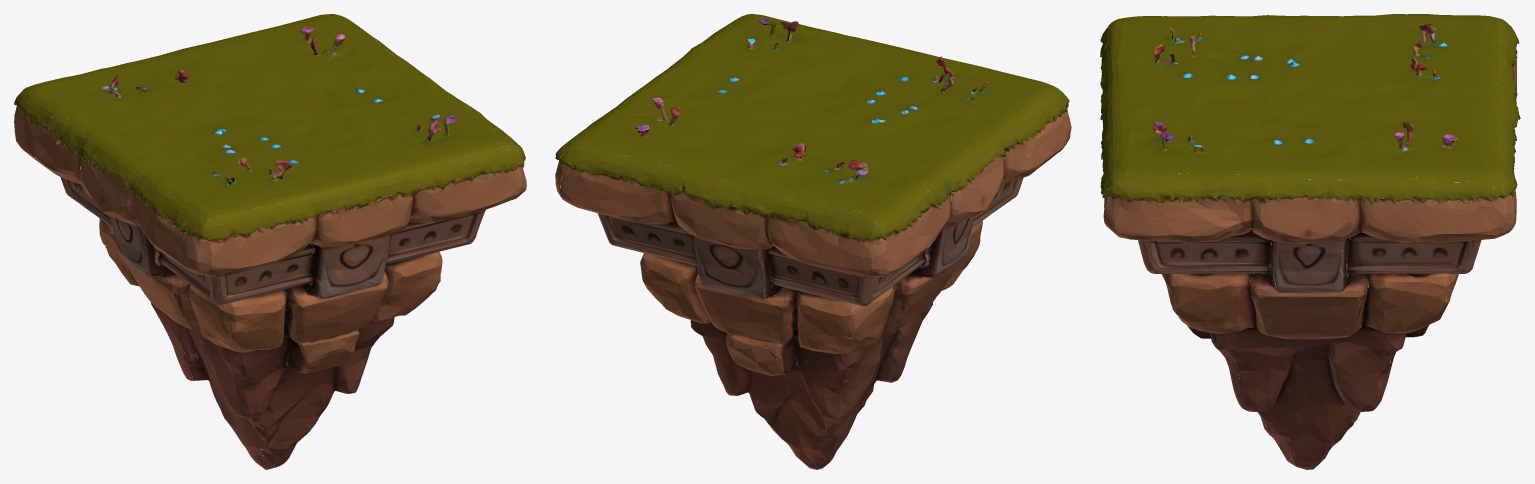
The model's file is platform_long.glb.
The picture shows the model from 3 angles, left to right: view 1: azimuth 30°, elevation 25°; view 2: azimuth 150°, elevation 25°; view 3: azimuth 270°, elevation 25°; orthographic projection. The views are drawn at different scales.
Parts seen in each view (by area): view 1: tmpdapyuir9.ply; view 2: tmpdapyuir9.ply; view 3: tmpdapyuir9.ply.
Part boxes in pixels (left/top/right/bottom): tmpdapyuir9.ply: left=14, top=14, right=526, bottom=469; tmpdapyuir9.ply: left=555, top=14, right=1071, bottom=469; tmpdapyuir9.ply: left=1100, top=14, right=1520, bottom=469.
Size of the model in its own units: 1.92 by 1.99 by 1.92.
1 material, 1 textured.
